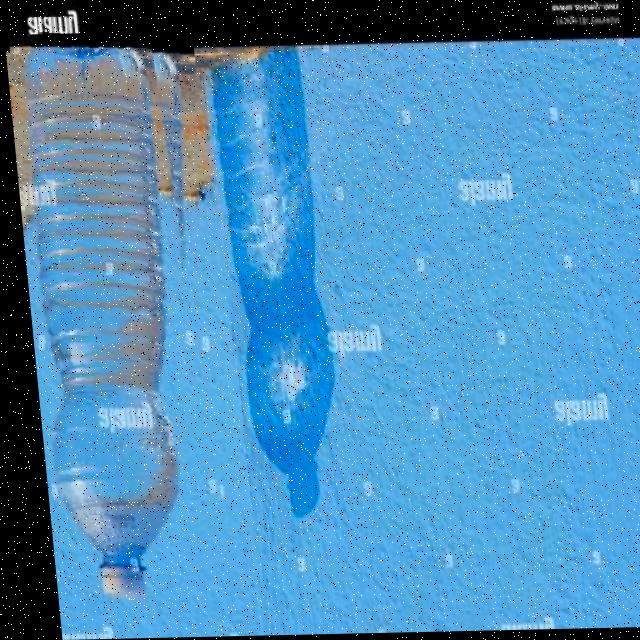plasticbottle: (7, 31, 226, 614)
plasticbottlecap: (65, 536, 187, 616)
